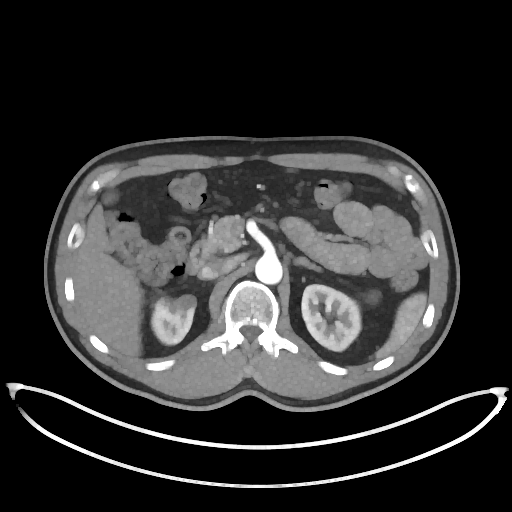Lesion: (171, 292, 199, 316)
